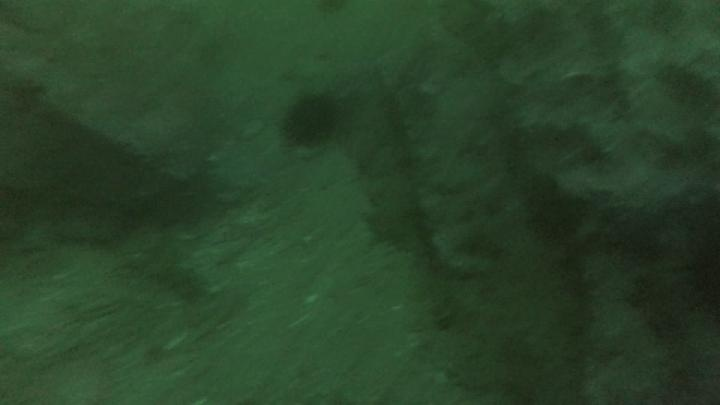echinus: (279, 89, 344, 150)
